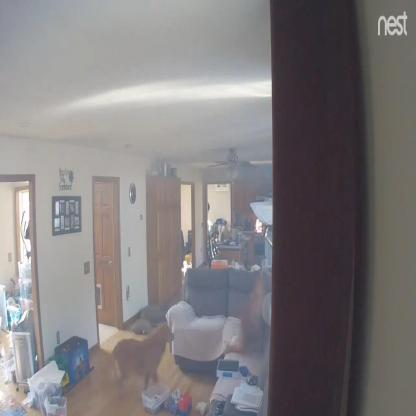fire: (256, 218, 262, 233)
